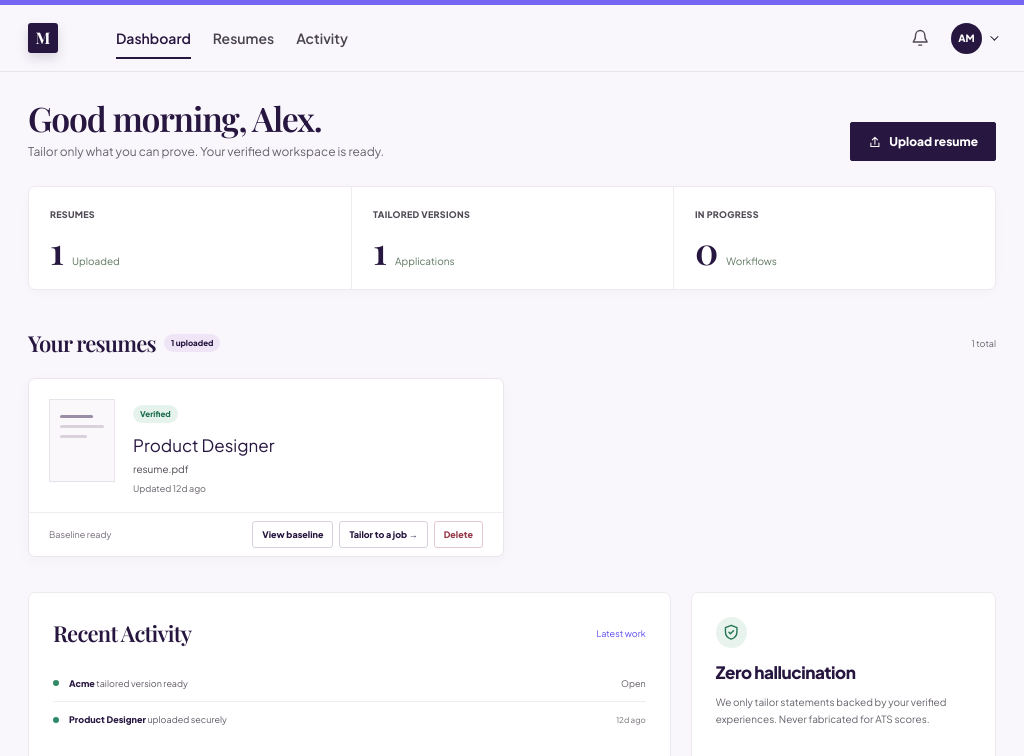
Test case: DashboardPage › confirms permanent resume deletion and removes it from the dashboard
The width and height of the screenshot is (1024, 756).
What coordinates should you click on to do the following:
click the button with aria-label "Delete Product Designer"
I would click on:
 (458, 534)
Its box is [434, 521, 483, 548].
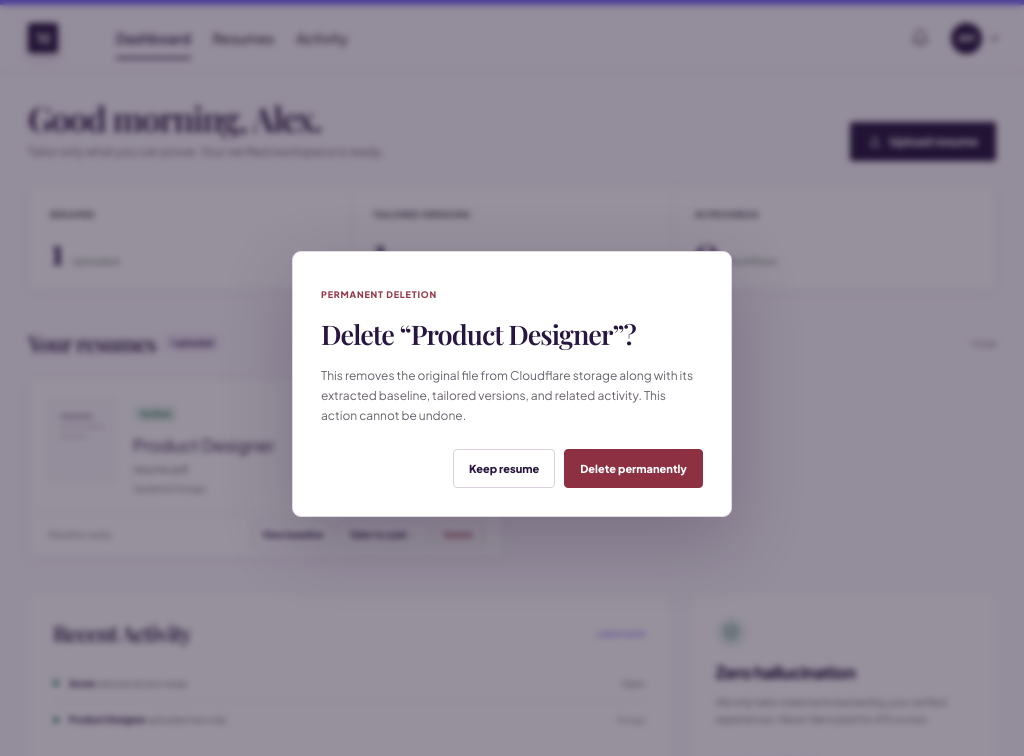
Now the heading "Delete “Product Designer”?" is shown, box [321, 316, 636, 352]
Now the text "Cloudflare storage" is shown, box [321, 368, 693, 423]
What coordinates should you click on to do the following:
click the button "Delete permanently"
I would click on:
 (634, 469)
Its box is [564, 449, 703, 488].
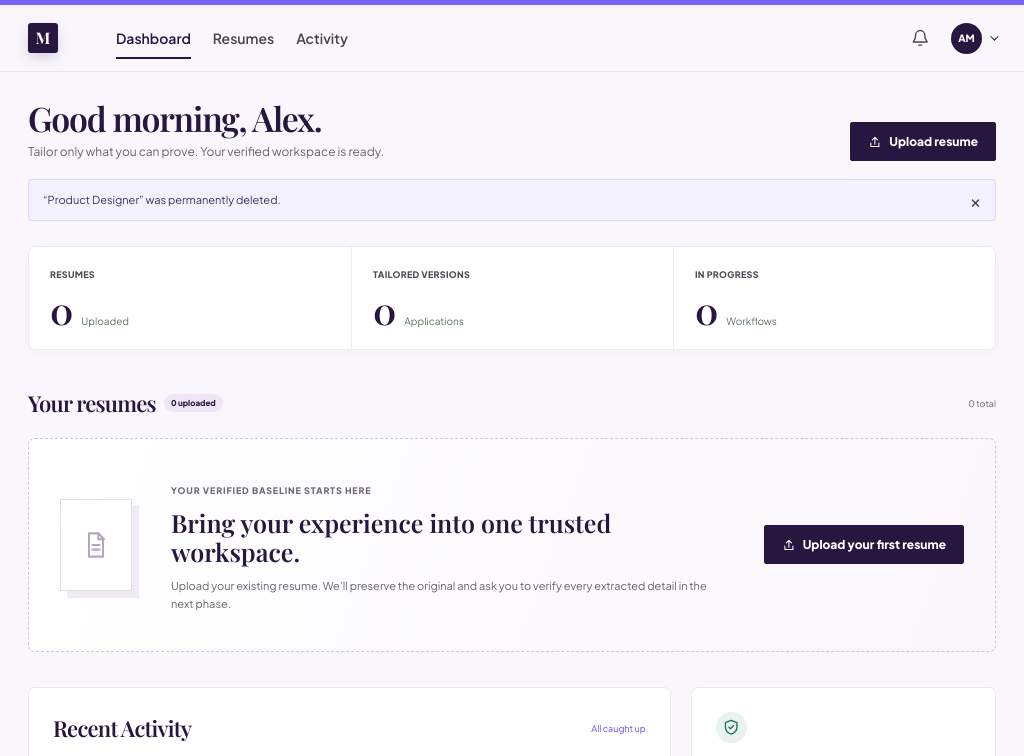
Now the text "“Product Designer” was permanently deleted." is shown, box [43, 192, 281, 209]
Now the text "resume.pdf" is gone
Now the text "Acme" is gone
